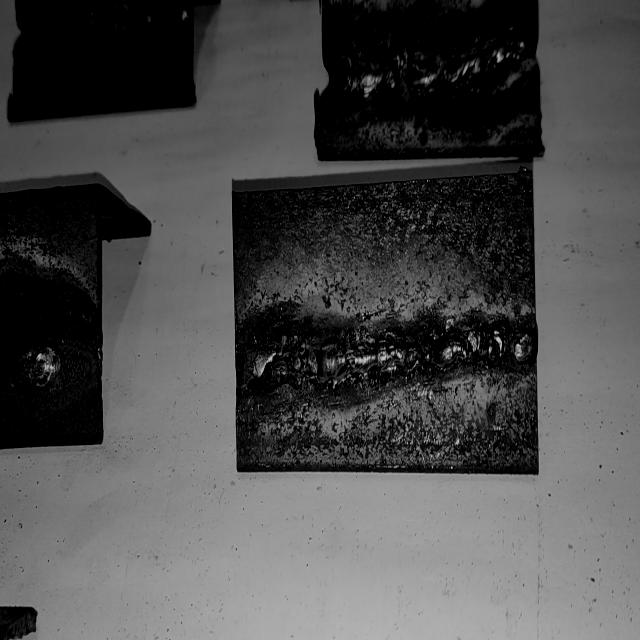Bad Weld: (246, 322, 534, 395), (336, 8, 534, 100)
Defect: (395, 306, 534, 399), (3, 282, 97, 390), (493, 0, 537, 70), (384, 34, 424, 110)
